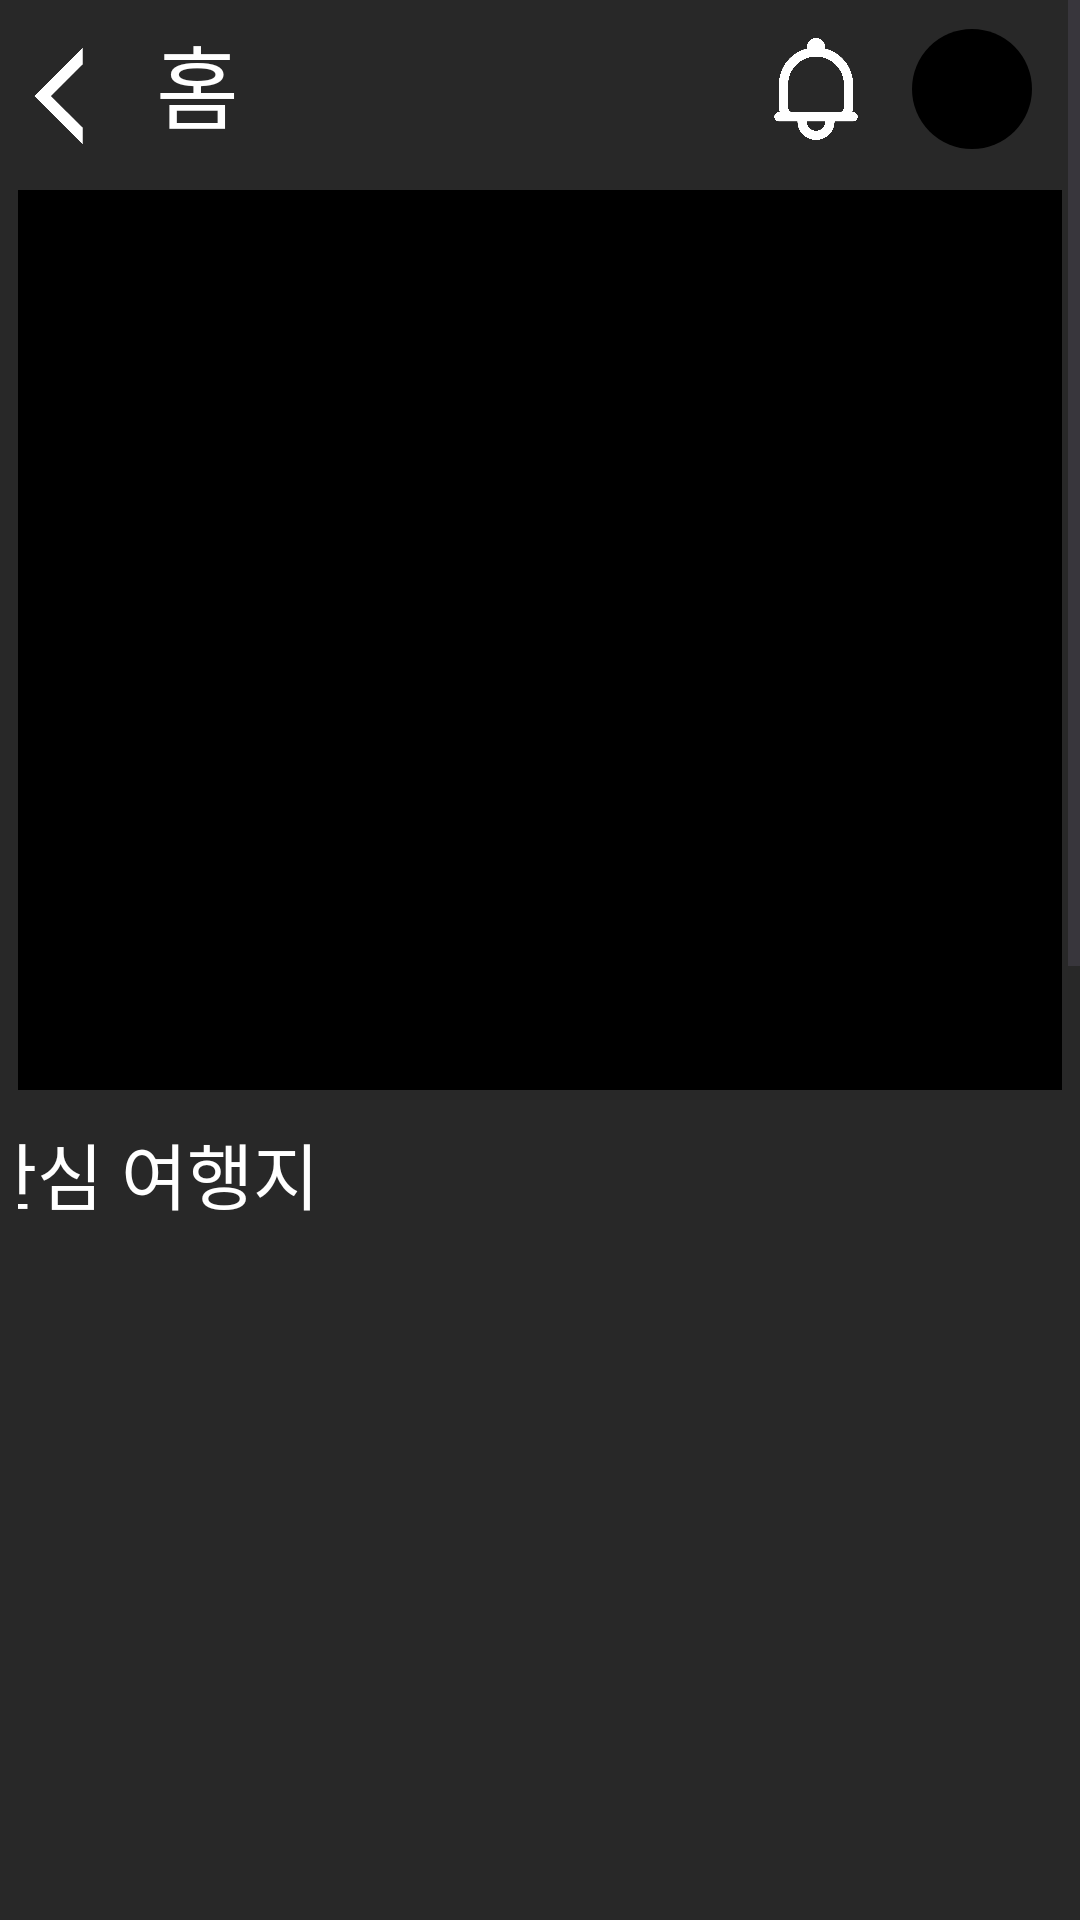

Screen size 1080px x 1920px. Icon name, then its box in pixels as (x1, y1, x2, y2):
back: (35, 48, 83, 144)
bell: (774, 38, 858, 140)
